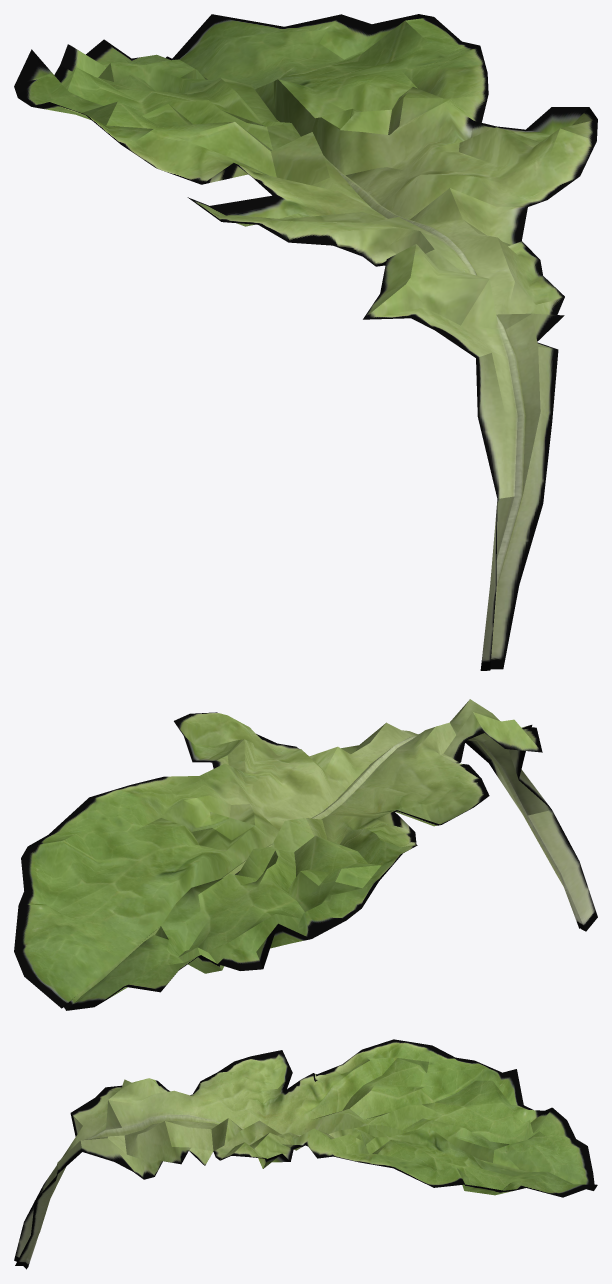
File: Lettuce4.fbx
3 views of the same model, one above another, from view 1: azimuth 30°, elevation 25°; view 2: azimuth 150°, elevation 25°; view 3: azimuth 270°, elevation 25° (orthographic). The views are drawn at different scales.
Visible parts, largest first — view 1: lettuce2_1; view 2: lettuce2_1; view 3: lettuce2_1.
Boxes of the visible parts, x1,y1,x2,y2 form: lettuce2_1: (14,14,597,670); lettuce2_1: (14,699,597,1010); lettuce2_1: (14,1039,597,1269).
Size of the model in its own units: 4.78 by 3.85 by 9.99.
